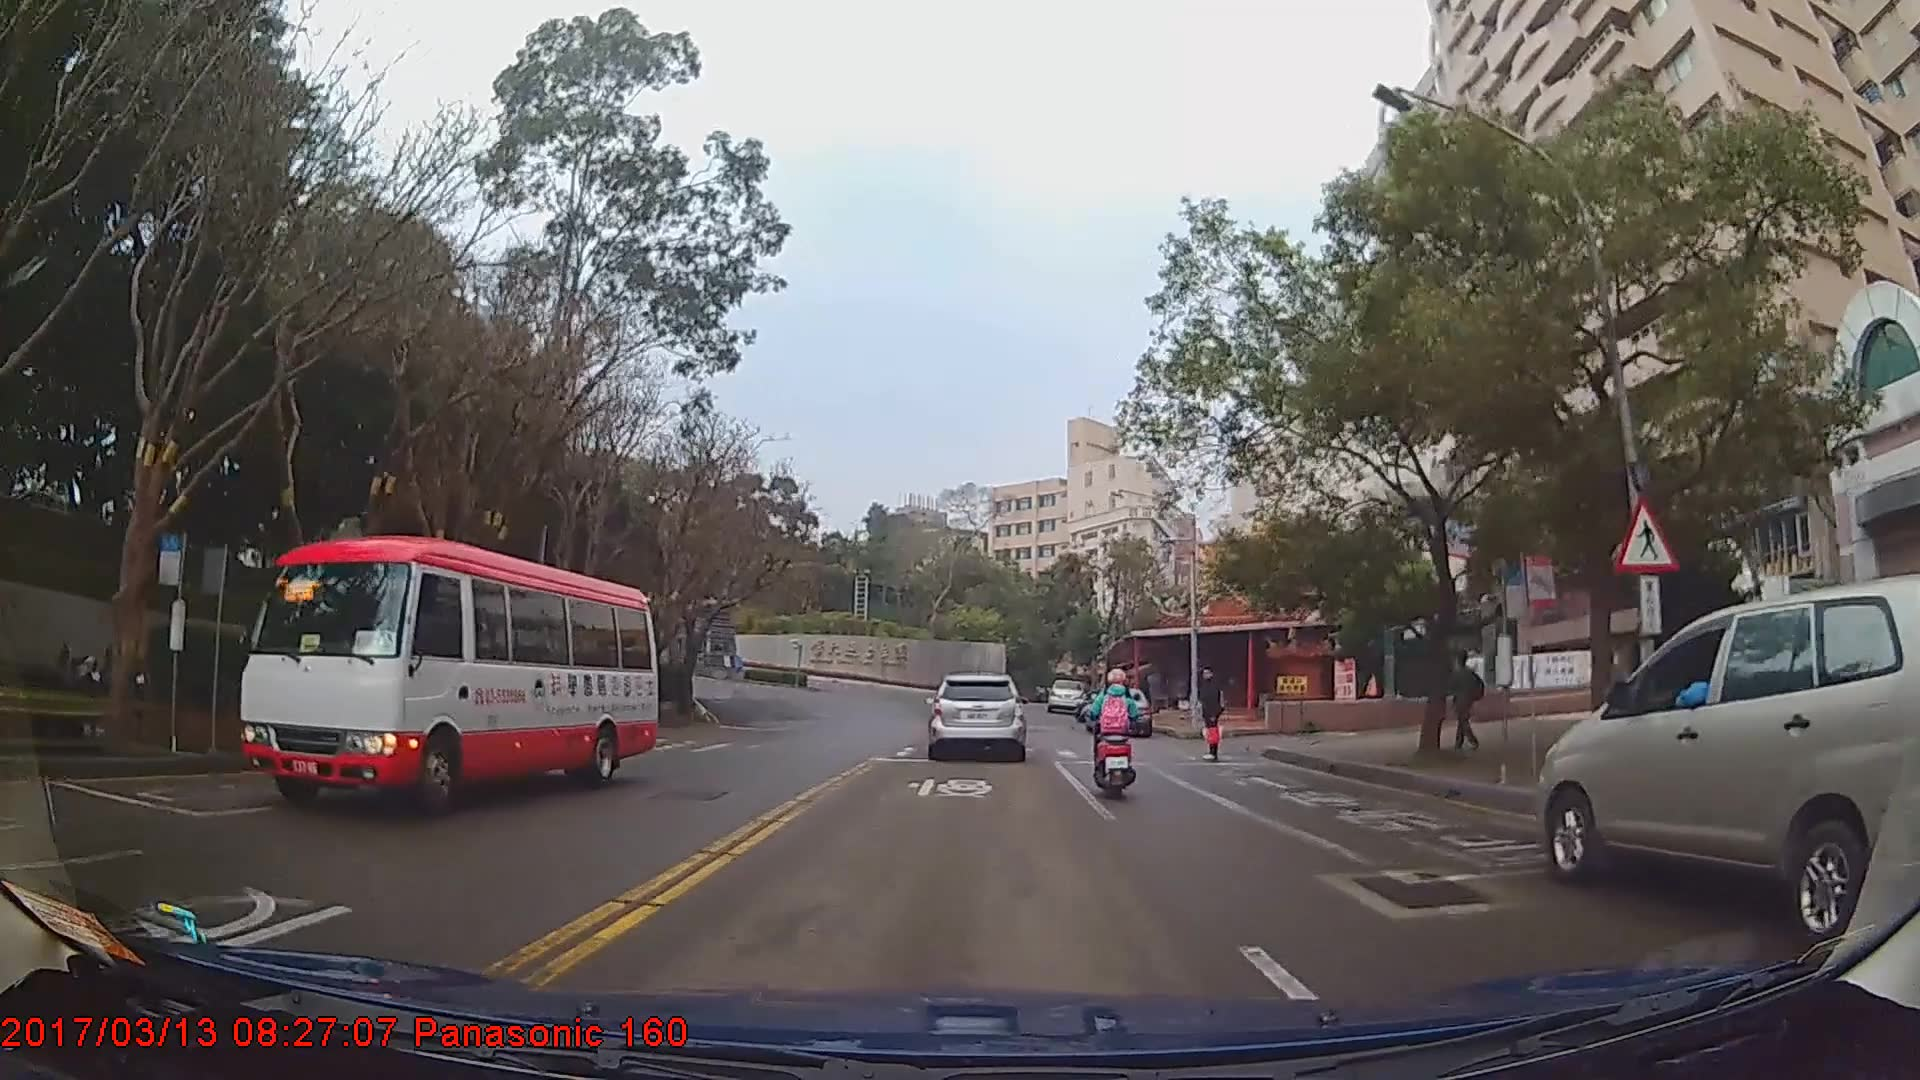pedestrian: (1445, 648, 1484, 749), (1197, 665, 1228, 763)
rider: (1083, 668, 1141, 799)
vehicle: (1538, 570, 1920, 942), (235, 535, 660, 820), (924, 671, 1027, 759), (1045, 678, 1084, 713)
